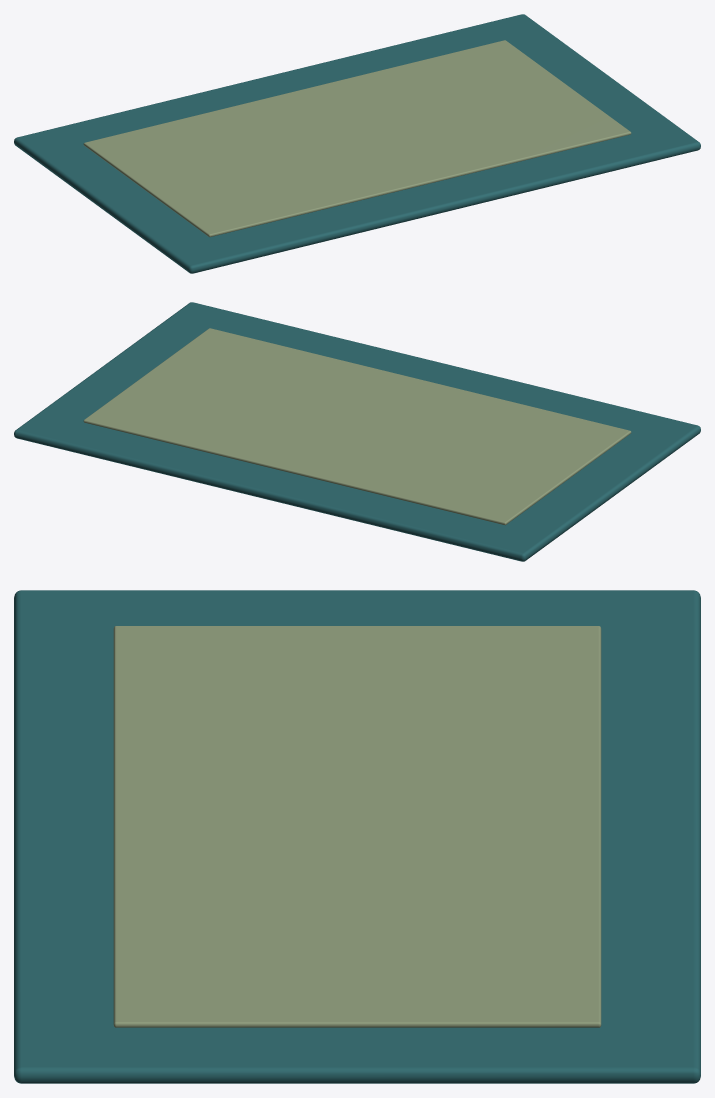
The model's file is welcome-mat.obj.
3 renders of one model, top to bottom at view 1: azimuth 30°, elevation 25°; view 2: azimuth 150°, elevation 25°; view 3: azimuth 270°, elevation 25°, orthographic. The views are drawn at different scales.
Visible parts, largest first — view 1: welcome-mat_sage, welcome-mat_teal; view 2: welcome-mat_sage, welcome-mat_teal; view 3: welcome-mat_sage, welcome-mat_teal.
Boxes of the visible parts, x1,y1,x2,y2 form: welcome-mat_sage: (83, 40, 631, 237); welcome-mat_teal: (14, 14, 700, 273); welcome-mat_sage: (83, 328, 631, 525); welcome-mat_teal: (14, 302, 700, 561); welcome-mat_sage: (113, 626, 601, 1027); welcome-mat_teal: (14, 590, 700, 1083).
Size of the model in its own units: 1.03 by 0.021 by 0.62.
